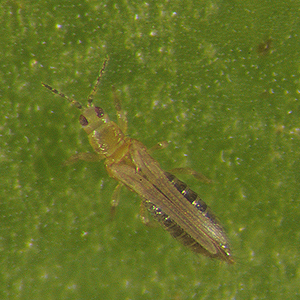Thrips: (43, 51, 251, 281)
